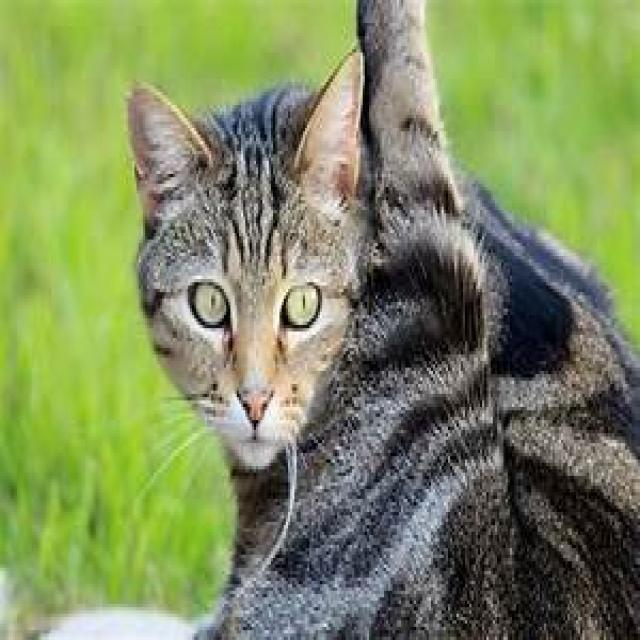cat: (124, 0, 638, 637)
